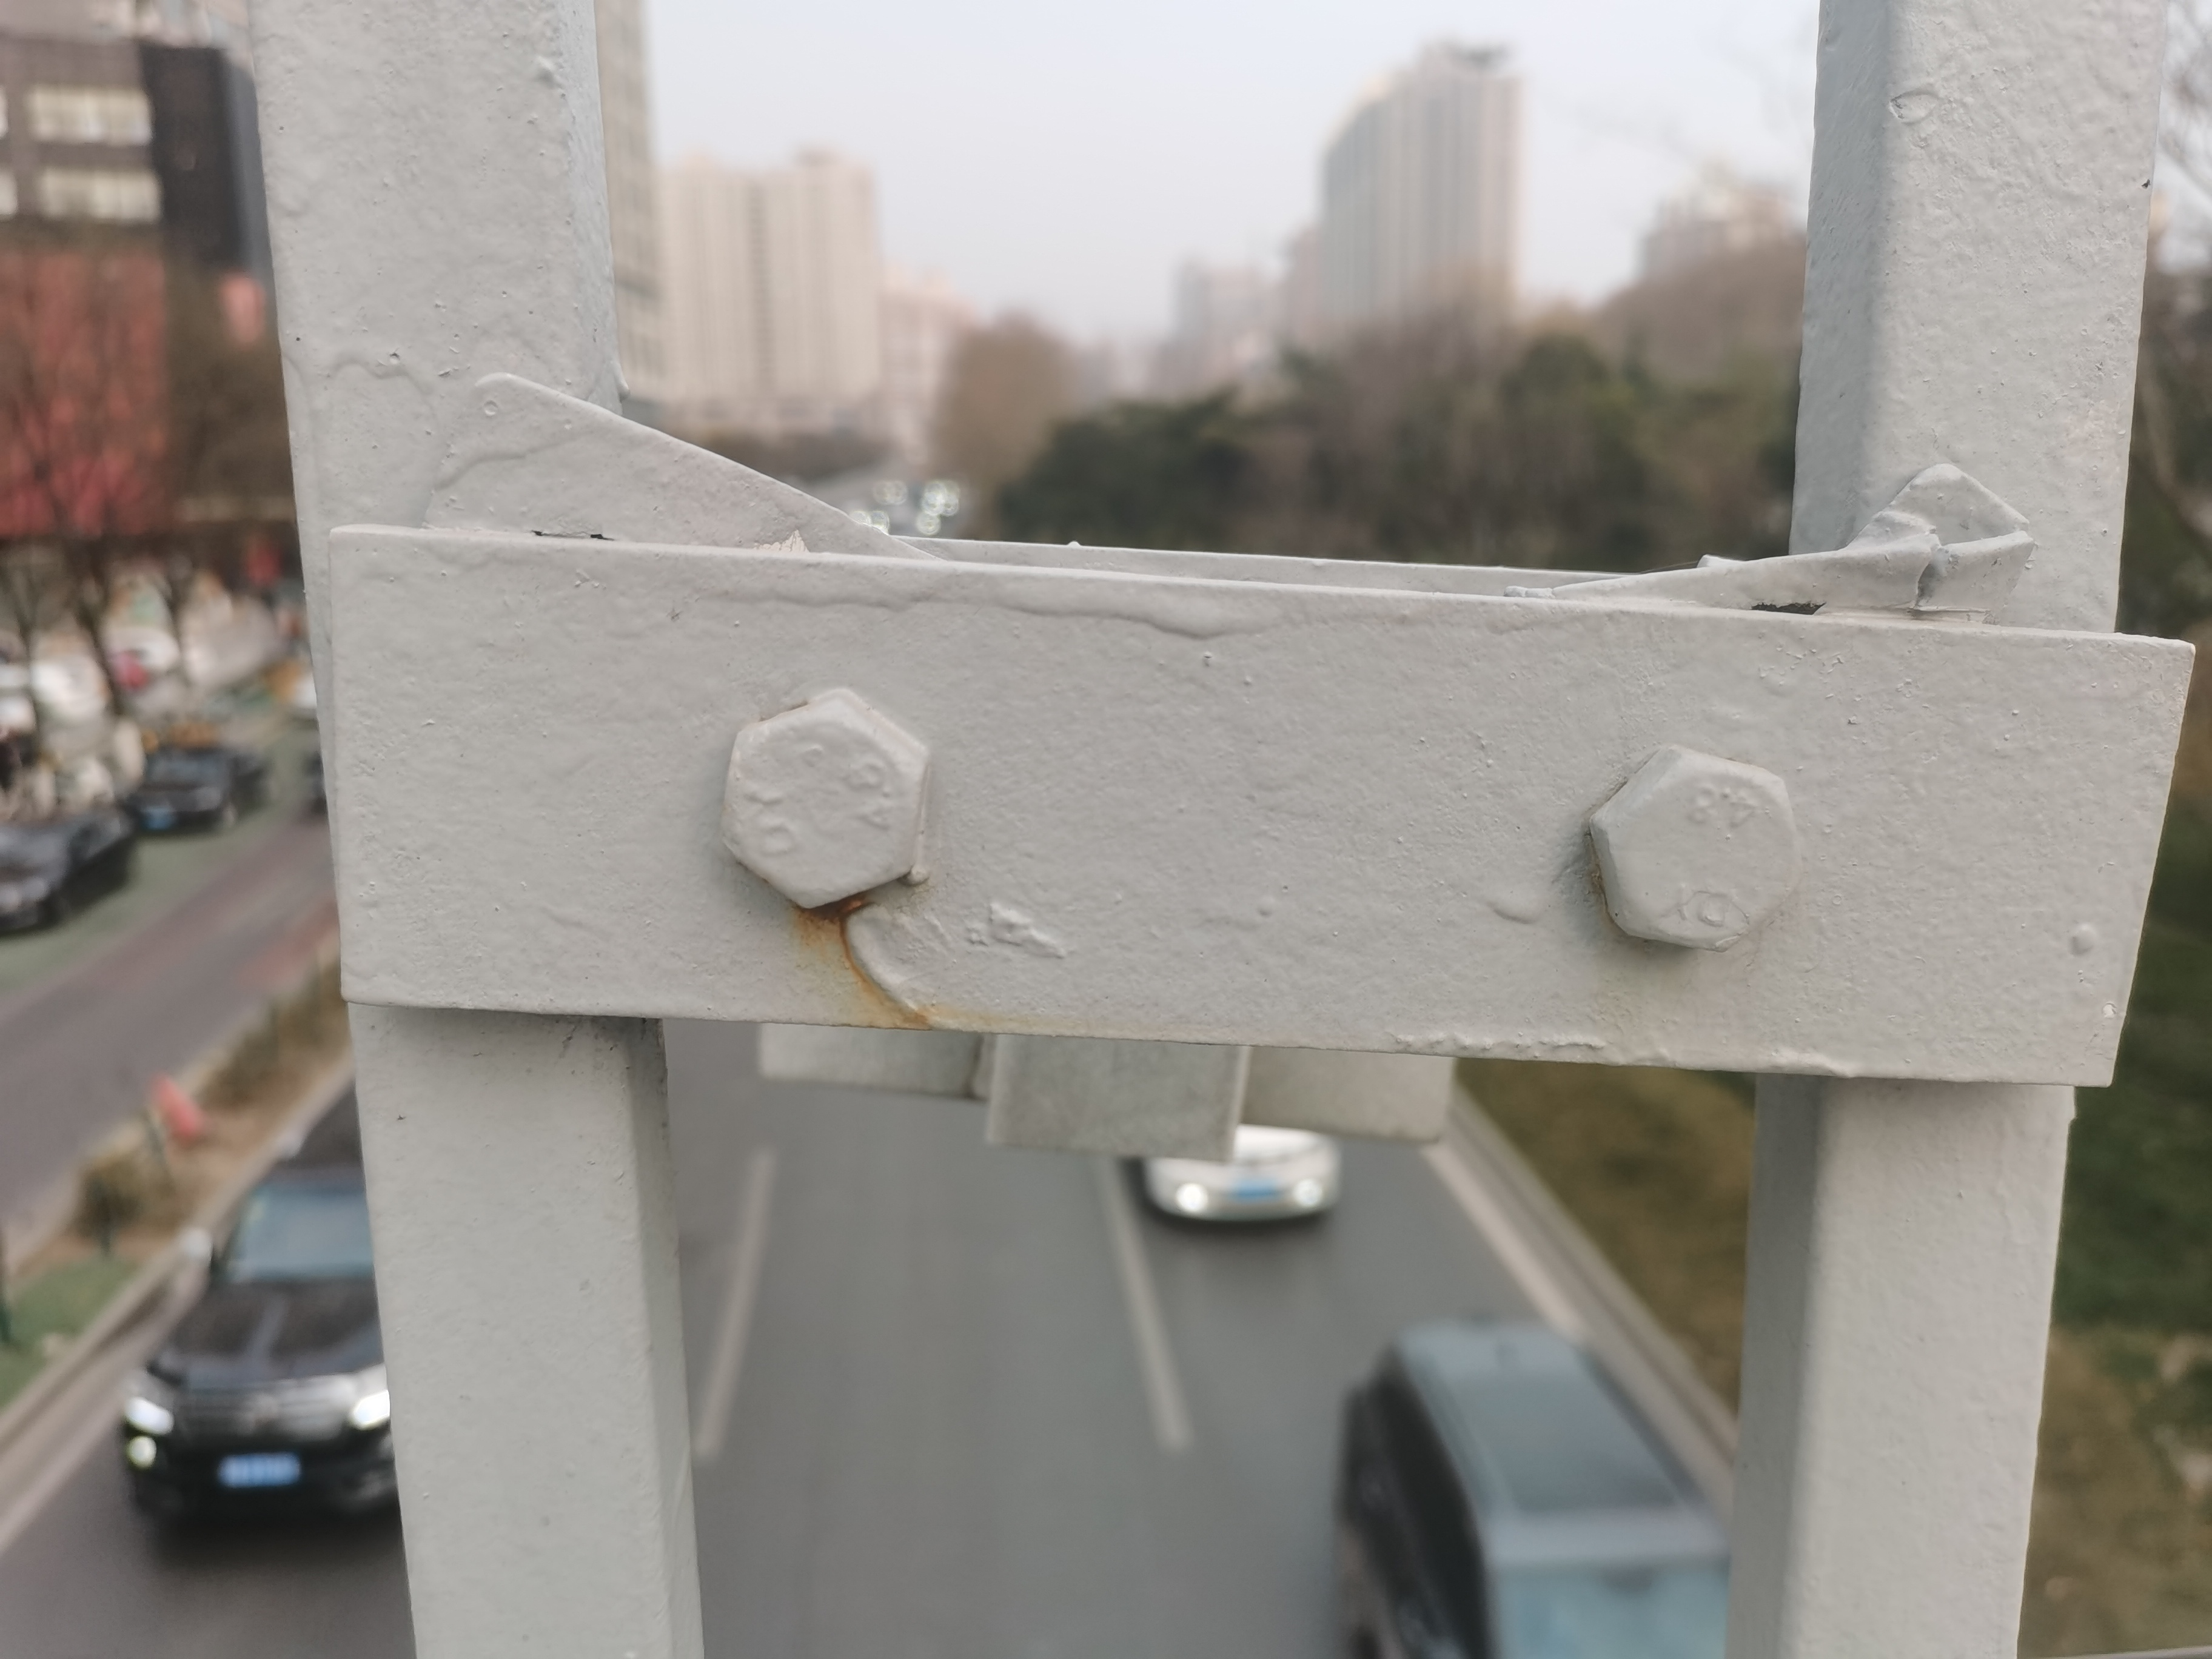bolt_a: (707, 681, 939, 925), (1580, 723, 1811, 965)
